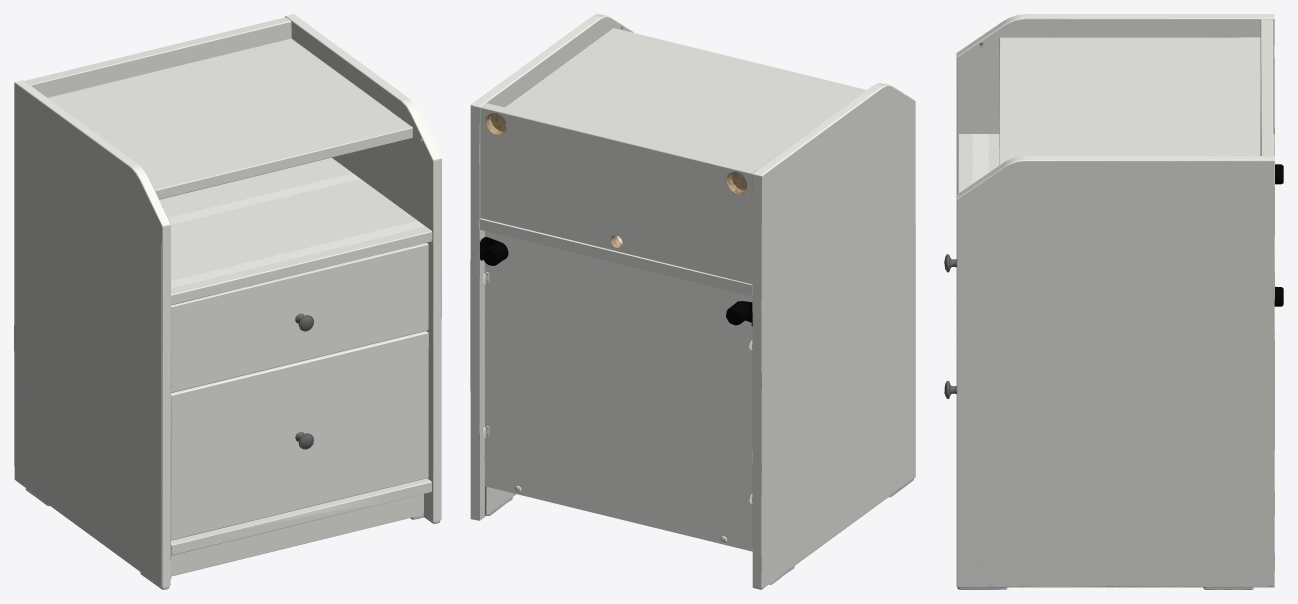
Rendered from hauga_2_drawer_chest_white.glb.
The picture shows the model from 3 angles, left to right: view 1: azimuth 30°, elevation 25°; view 2: azimuth 150°, elevation 25°; view 3: azimuth 270°, elevation 25°; orthographic projection. The views are drawn at different scales.
Visible parts, largest first — view 1: ASY_ART_10572824_S01_NV01, ASY_LPT02_10572824_S01_NV01, ASY_LPT01_10572824_S01_NV01; view 2: ASY_ART_10572824_S01_NV01; view 3: ASY_ART_10572824_S01_NV01.
Part boxes in pixels (x1,y1,x2,y2): ASY_ART_10572824_S01_NV01: (14, 14, 441, 589); ASY_LPT02_10572824_S01_NV01: (171, 331, 428, 540); ASY_LPT01_10572824_S01_NV01: (171, 243, 428, 392); ASY_ART_10572824_S01_NV01: (470, 14, 915, 589); ASY_ART_10572824_S01_NV01: (956, 14, 1283, 589).
Bounding box in the file's own units: 0.496 × 0.6791 × 0.4855.
3 materials, 3 textured.
